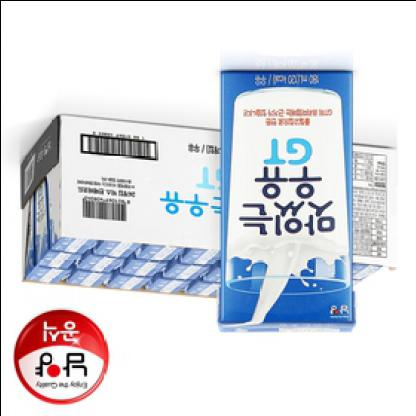tetra: (205, 58, 367, 348)
